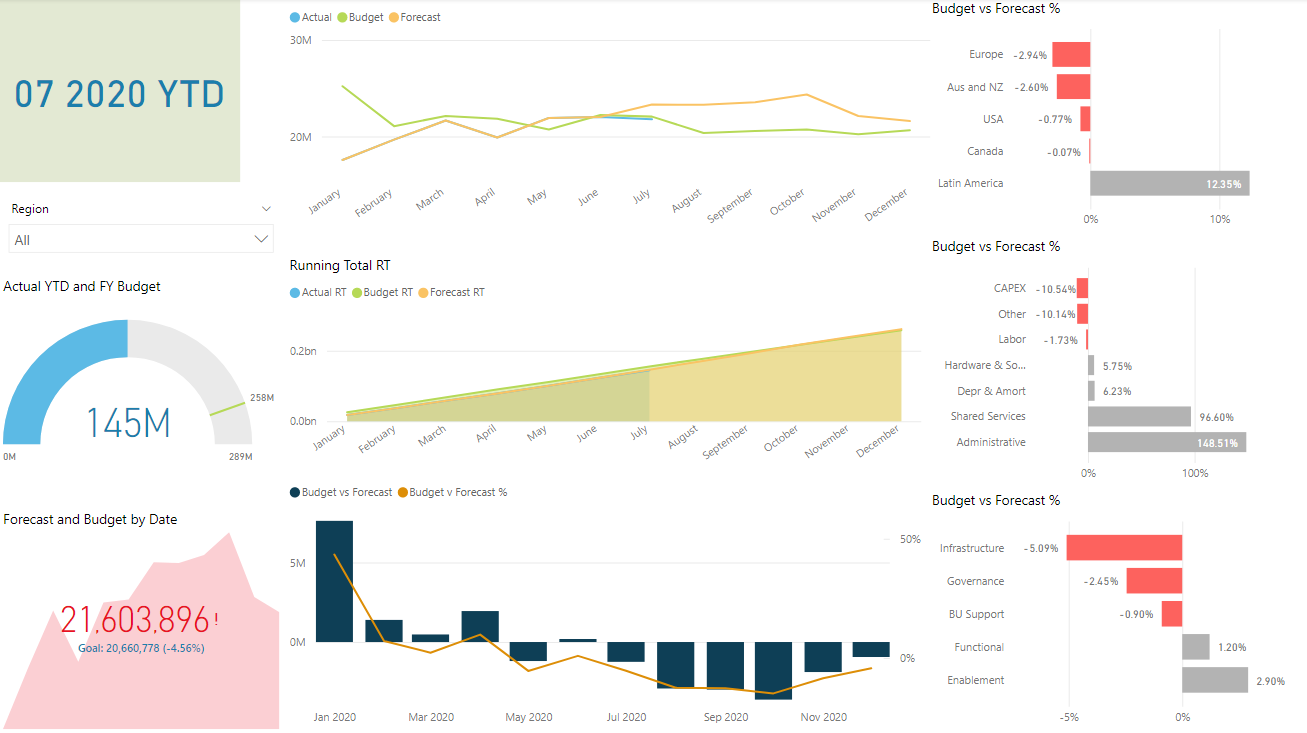

What the dashboard file says about the page in this screenshot:
{"tool":"powerbi","page":{"name":"Headline","canvas":[1280,720],"ordinal":0},"visuals":[{"type":"gauge","title":"Actual YTD and FY Budget","fields":{"Y":["Sum(Actuals.Actual)"],"TargetValue":["Sum(Budget.Budget)"]},"box":[0,272.6,279.9,209],"z":0},{"type":"kpi","title":"Forecast and Budget by Date","fields":{"TrendLine":["Calendar.Date"],"Indicator":["Sum(Forecast.Forecast)"],"Goal":["Sum(Budget.Budget)"]},"box":[0,500,279.9,220],"z":1000},{"type":"lineChart","fields":{"Y":["Sum(Actuals.Actual)","Sum(Budget.Budget)","Sum(Forecast.Forecast)"],"Category":["Calendar.Date.Variation.Date Hierarchy.Year","Calendar.Date.Variation.Date Hierarchy.Quarter","Calendar.Date.Variation.Date Hierarchy.Month"]},"box":[279.9,0,636.9,233.5],"z":2000},{"type":"areaChart","title":"Running Total RT","fields":{"Category":["Calendar.Date.Variation.Date Hierarchy.Year","Calendar.Date.Variation.Date Hierarchy.Quarter","Calendar.Date.Variation.Date Hierarchy.Month"],"Y":["Actuals.Actual RT","Budget.Budget RT","Forecast.Forecast RT"]},"box":[279.9,251.8,628.3,212.7],"z":3000},{"type":"lineClusteredColumnComboChart","fields":{"Y":["Budget.Budget vs Forecast"],"Category":["Calendar.Date"],"Y2":["Budget.Budget % difference from Forecast"]},"box":[279.9,464.5,628.3,255.5],"z":4000},{"type":"clusteredBarChart","title":"Budget vs Forecast %","fields":{"Y":["Budget.Budget % difference from Forecast"],"Category":["CostElements.Cost Element Group"]},"box":[908.3,233.5,371.6,248.1],"z":5000},{"type":"clusteredBarChart","title":"Budget vs Forecast %","fields":{"Y":["Budget.Budget % difference from Forecast"],"Category":["Departments.IT Area"]},"box":[908.3,481.6,371.6,238.4],"z":6000},{"type":"slicer","fields":{"Values":["Regions.Region"]},"box":[0,193.1,279.9,58.7],"z":7000},{"type":"card","fields":{"Values":["Actuals.YTD Month"]},"box":[0,0,237.1,179.7],"z":8000},{"type":"clusteredBarChart","title":"Budget vs Forecast %","fields":{"Category":["Regions.Region"],"Y":["Budget.Budget % difference from Forecast"]},"box":[908.3,0,371.6,233.5],"z":9000}]}

Visuals, with their boxes in screenshot pixels (x1, y1, x2, y2), scaled from the page's 1280x720 canvas onto the 1307x733 screenshot:
"Actual YTD and FY Budget" gauge: bbox(0, 278, 286, 490)
"Forecast and Budget by Date" kpi: bbox(0, 509, 286, 732)
lineChart - Sum(Actuals.Actual) x Sum(Budget.Budget): bbox(286, 0, 936, 238)
"Running Total RT" areaChart: bbox(286, 256, 927, 473)
lineClusteredColumnComboChart - Budget.Budget vs Forecast x Calendar.Date: bbox(286, 473, 927, 732)
"Budget vs Forecast %" clusteredBarChart: bbox(927, 238, 1306, 490)
"Budget vs Forecast %" clusteredBarChart: bbox(927, 490, 1306, 732)
slicer - Regions.Region: bbox(0, 197, 286, 256)
card - Actuals.YTD Month: bbox(0, 0, 242, 183)
"Budget vs Forecast %" clusteredBarChart: bbox(927, 0, 1306, 238)
